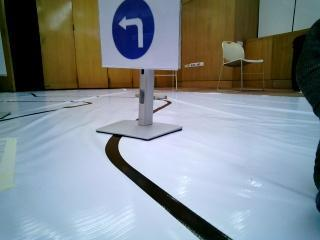left: (104, 0, 163, 74)
